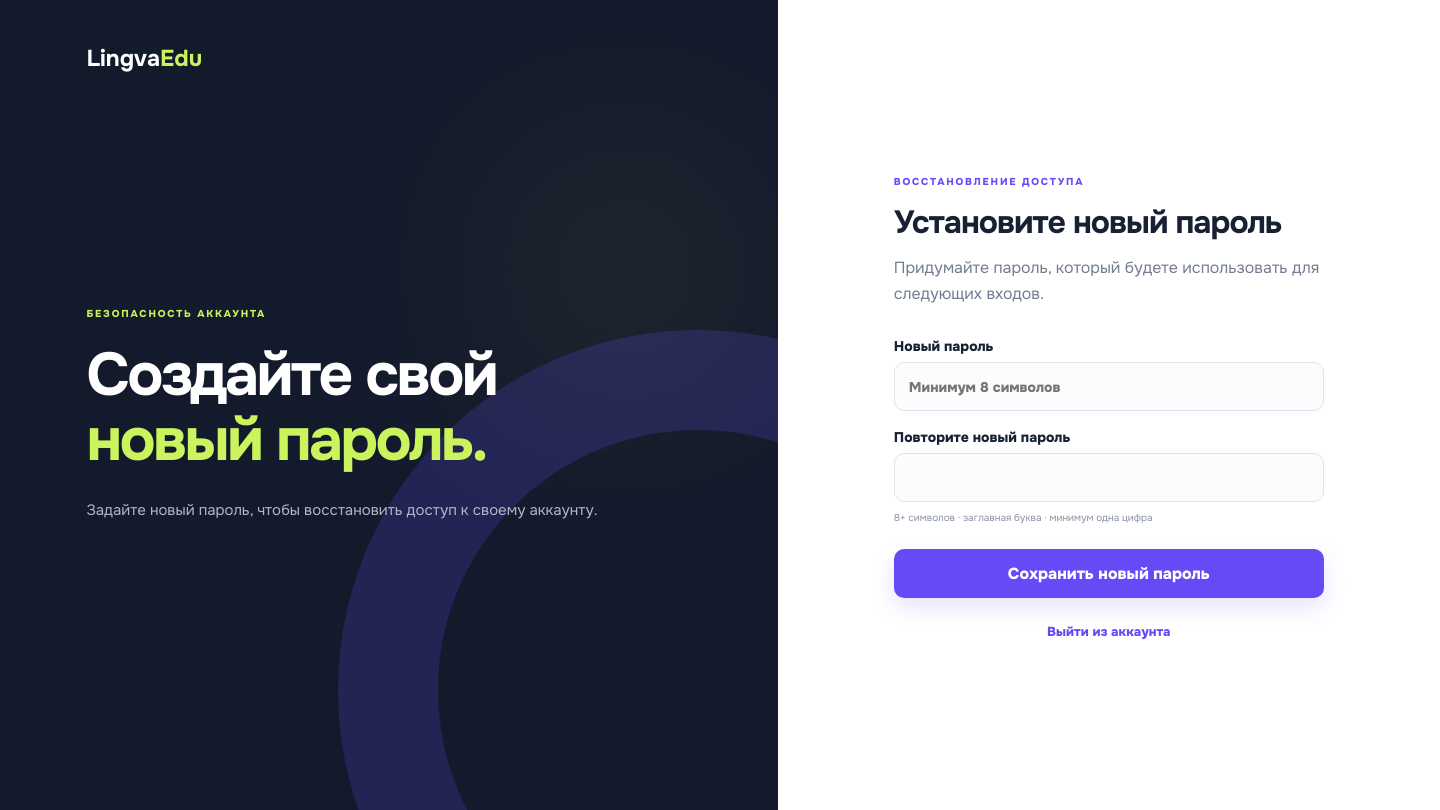
Test case: password recovery › keeps recovery open and releases the submit button after a network failure
Type "TestingOnly9" into the password field labelled "Новый пароль" at {"x": 1109, "y": 387}, box [894, 362, 1324, 411]
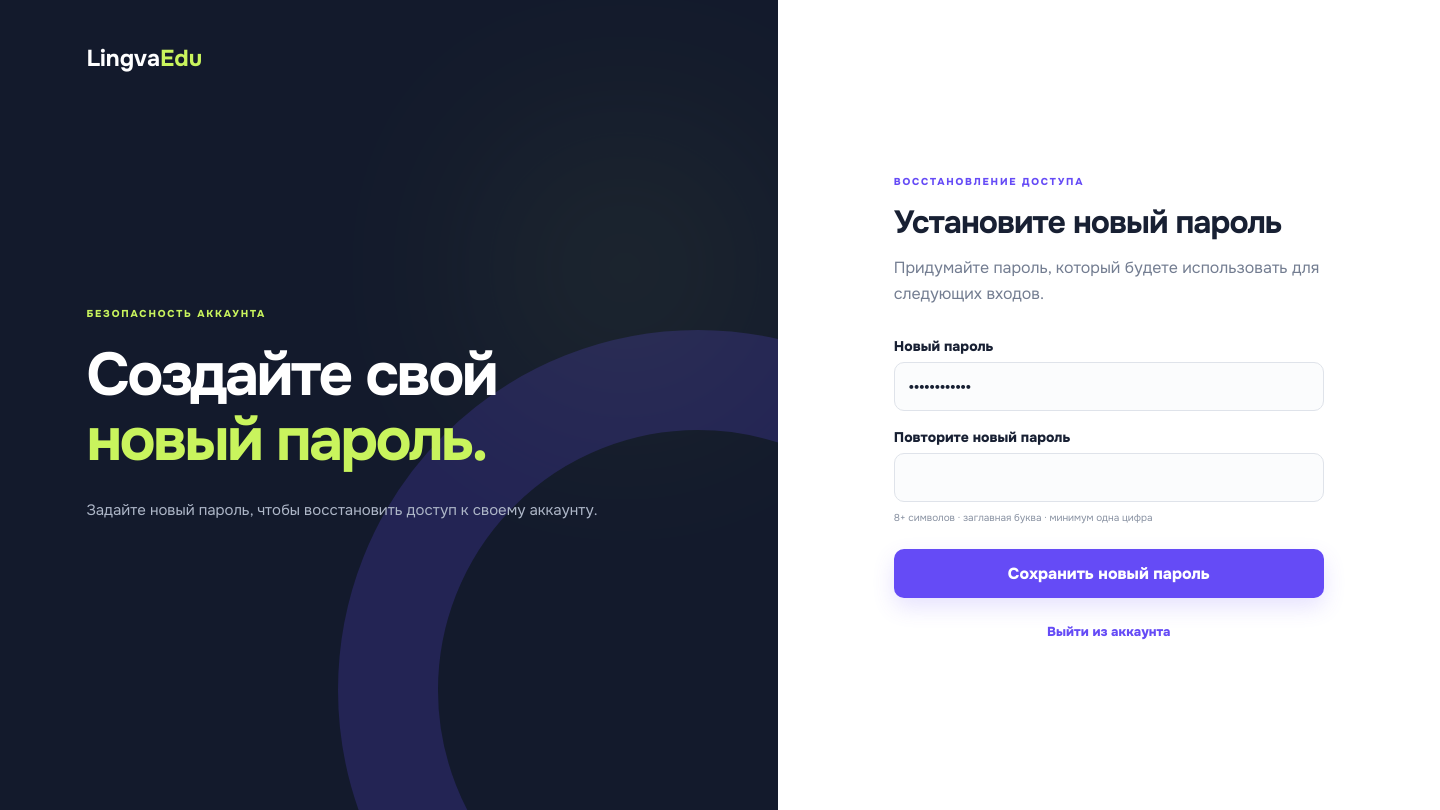
Type "TestingOnly9" into the password field labelled "Повторите новый пароль" at {"x": 1109, "y": 478}, box [894, 453, 1324, 502]
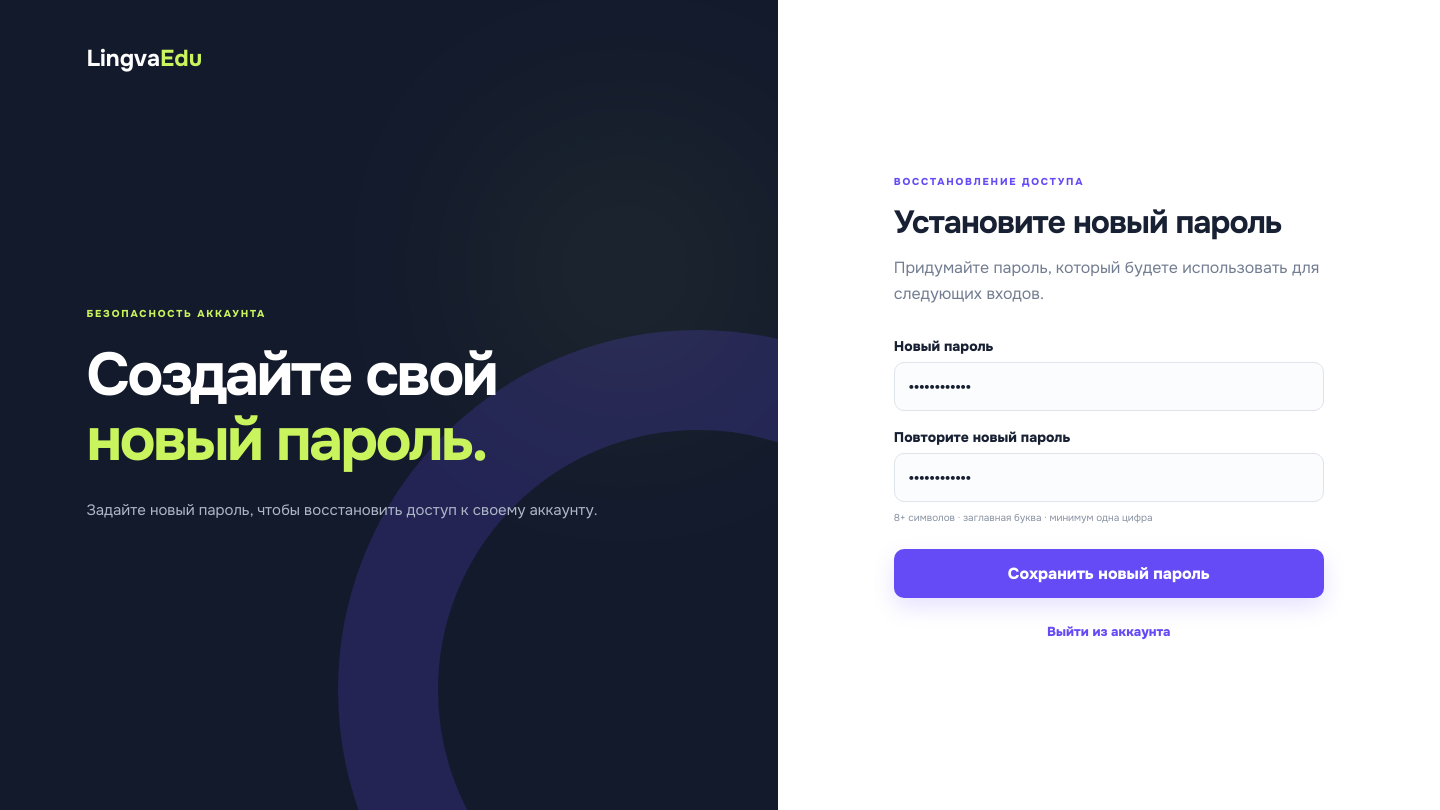
Click the button "Сохранить новый пароль" at {"x": 1109, "y": 574}, box [894, 549, 1324, 598]
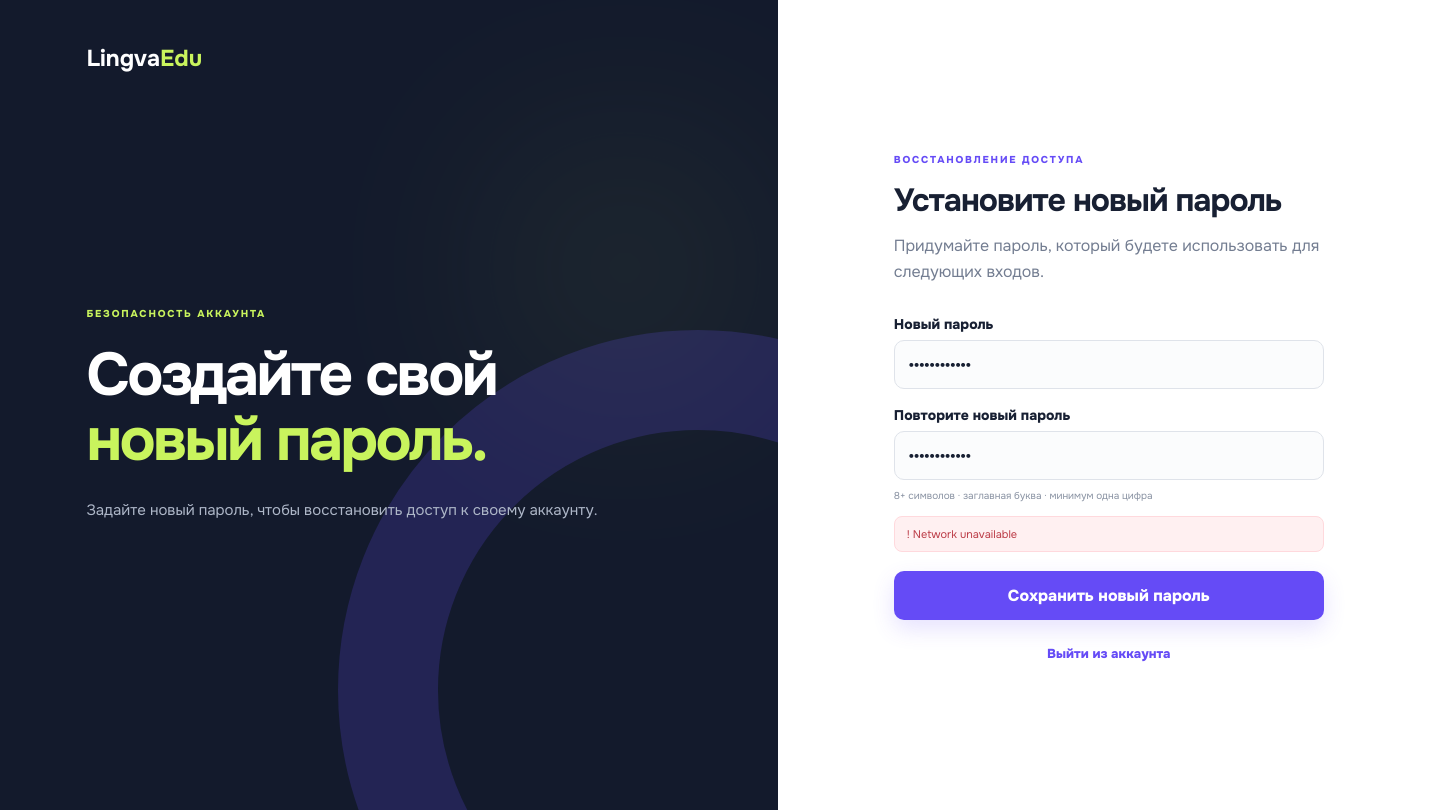
Check: the button "Сохранить новый пароль" is enabled, box [894, 571, 1324, 620]
Check: the message shows "Network unavailable", box [913, 527, 1017, 541]
